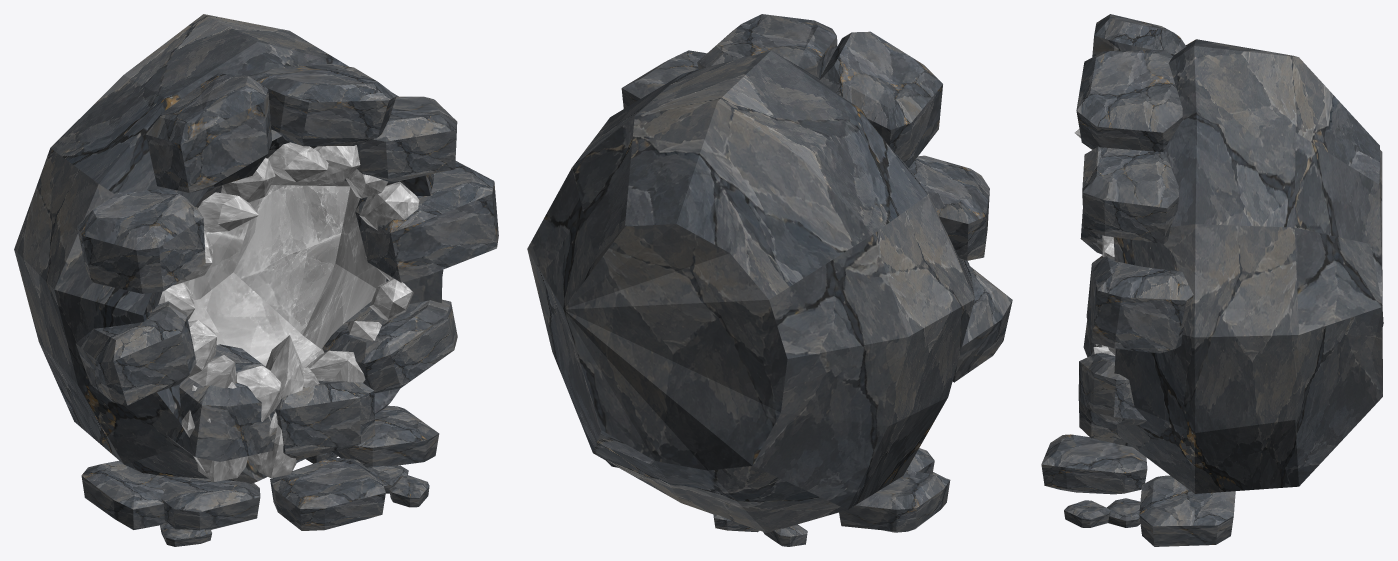
File: Ore_P5.fbx
3 views of the same model, side by side, from view 1: azimuth 30°, elevation 25°; view 2: azimuth 150°, elevation 25°; view 3: azimuth 270°, elevation 25° (orthographic). The views are drawn at different scales.
Parts seen in each view (by area): view 1: Ore_P5_LOD0; view 2: Ore_P5_LOD0; view 3: Ore_P5_LOD0.
Boxes of the visible parts, box(x1,y1,x2,y2) form: Ore_P5_LOD0: box(14, 14, 498, 546); Ore_P5_LOD0: box(527, 14, 1012, 546); Ore_P5_LOD0: box(1041, 14, 1383, 546).
Size of what is drawn, in the model's own units: 1.83 by 1.95 by 1.38.
Materials: 2 (2 with a texture image).
